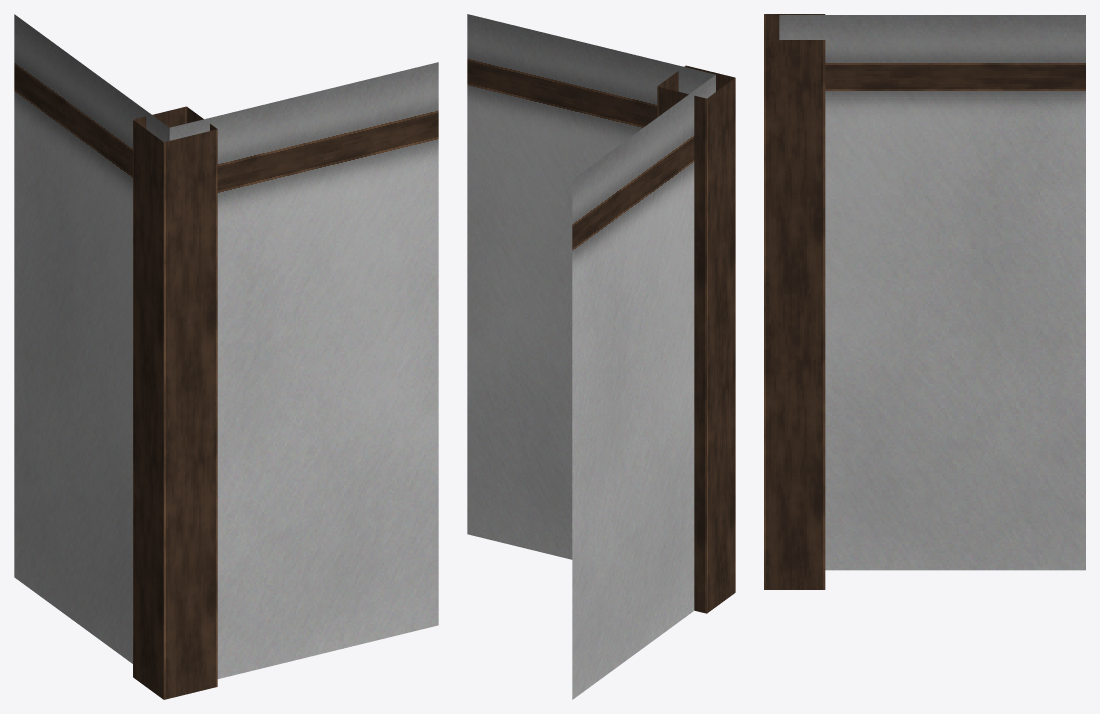
The model's file is house_corner_b_2x2.glb.
3 renders of one model, left to right at view 1: azimuth 30°, elevation 25°; view 2: azimuth 150°, elevation 25°; view 3: azimuth 270°, elevation 25°, orthographic. The views are drawn at different scales.
Visible parts, largest first — view 1: house_corner_b_2x2; view 2: house_corner_b_2x2; view 3: house_corner_b_2x2.
Part boxes in pixels (<box>): house_corner_b_2x2: <box>14,14,438,699</box>; house_corner_b_2x2: <box>467,14,735,699</box>; house_corner_b_2x2: <box>764,14,1085,589</box>.
Bounding box in the file's own units: 2.1 × 4 × 2.1.
Materials: 2 (2 with a texture image).
